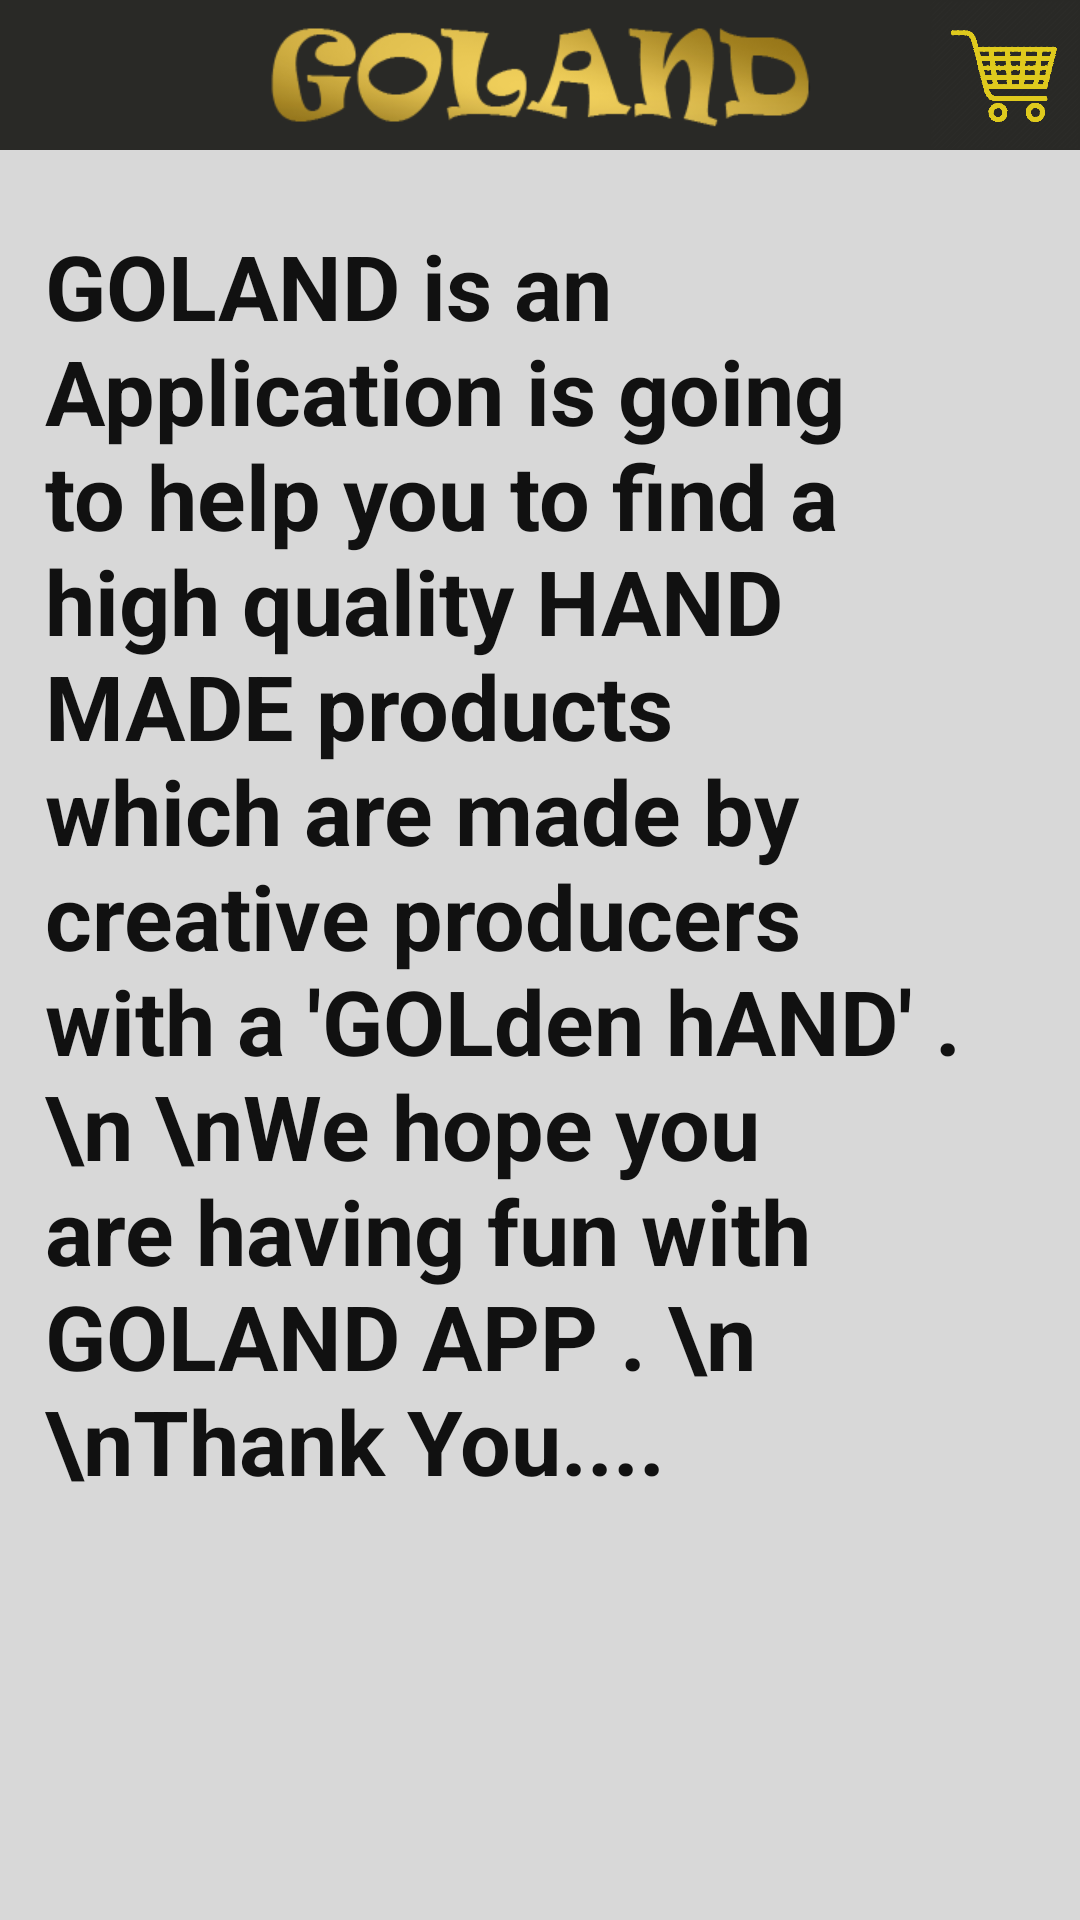

Named icons in this screenshot (1080 x 1920) and their bounding boxes, (x1, y1, x2, y2):
cart: (951, 30, 1057, 122)
